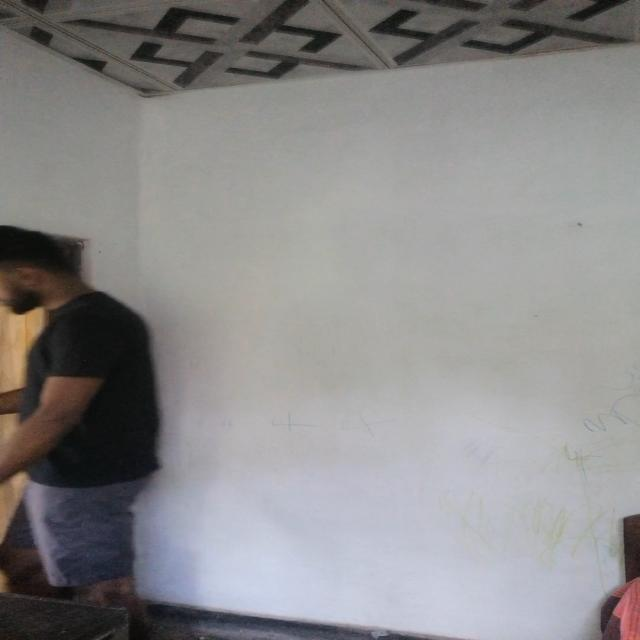Person: (0, 221, 199, 640)
